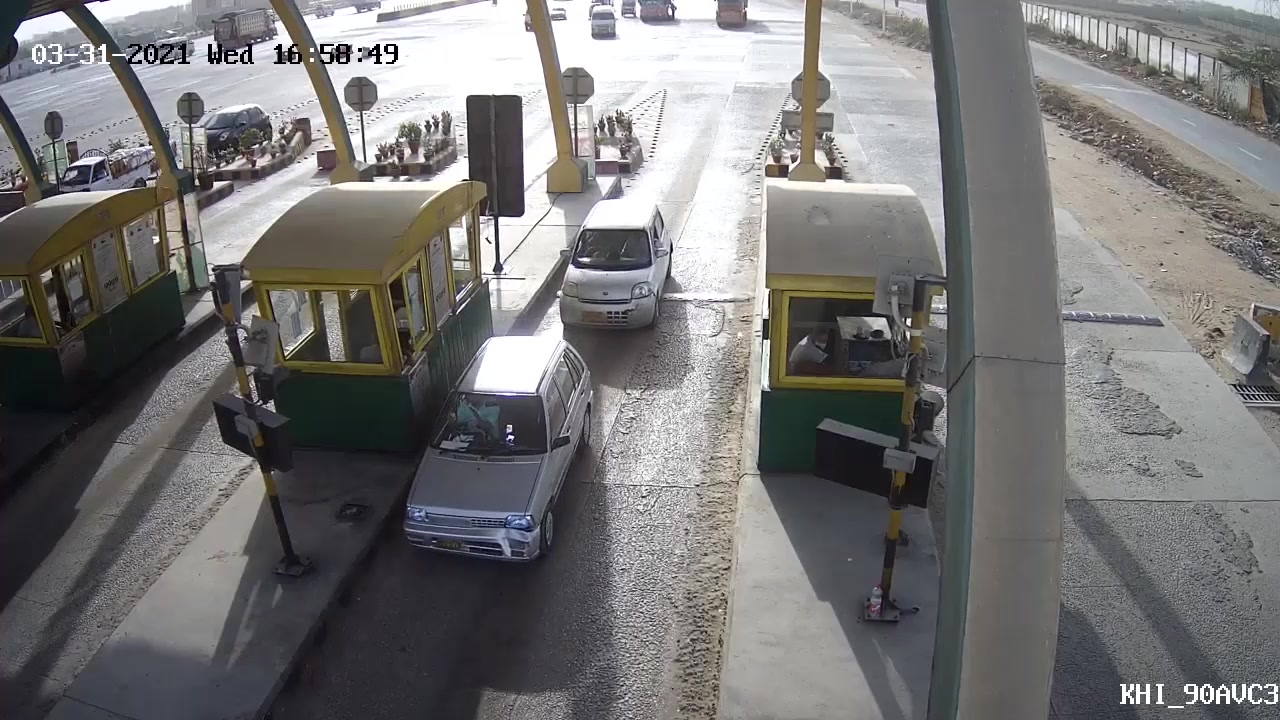F1: (407, 334, 594, 569), (550, 188, 680, 341)
